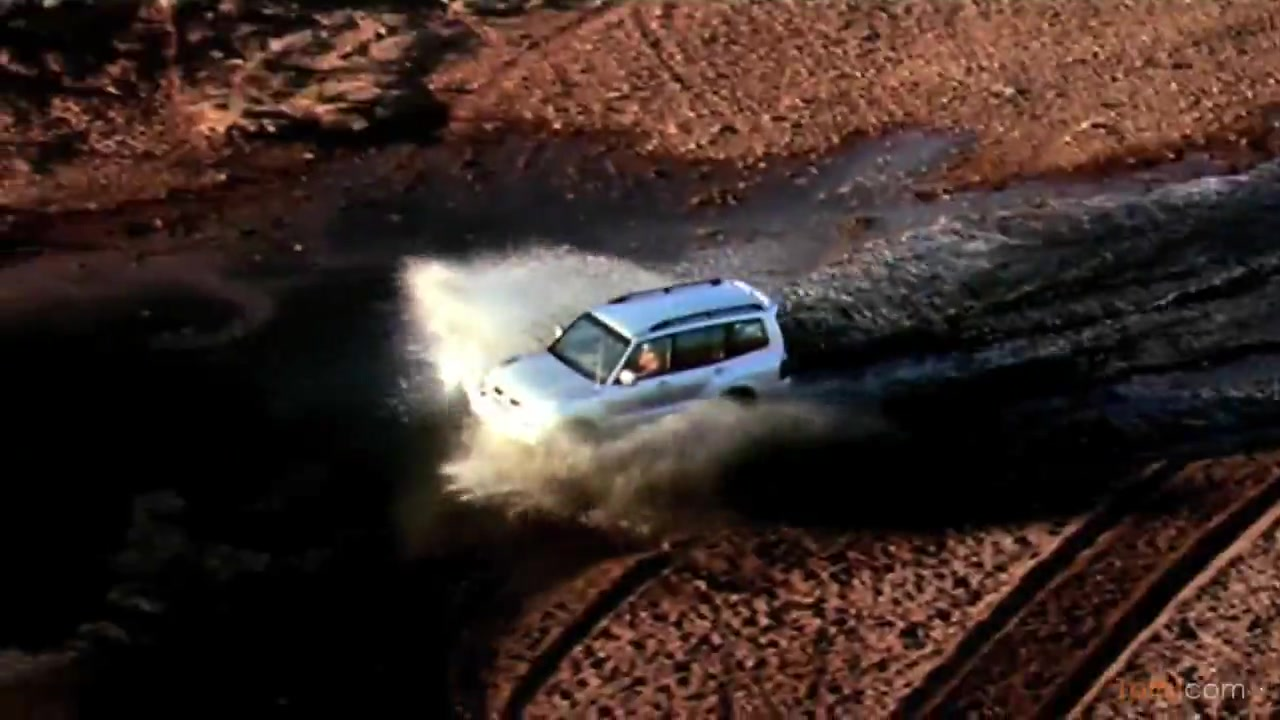car: (479, 270, 798, 462)
